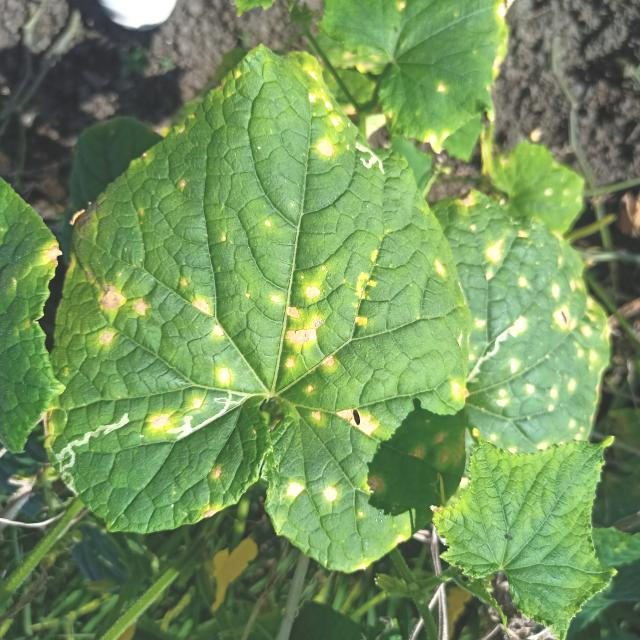disease_cucumber: (41, 227, 467, 532), (466, 211, 603, 448), (306, 84, 344, 160)
